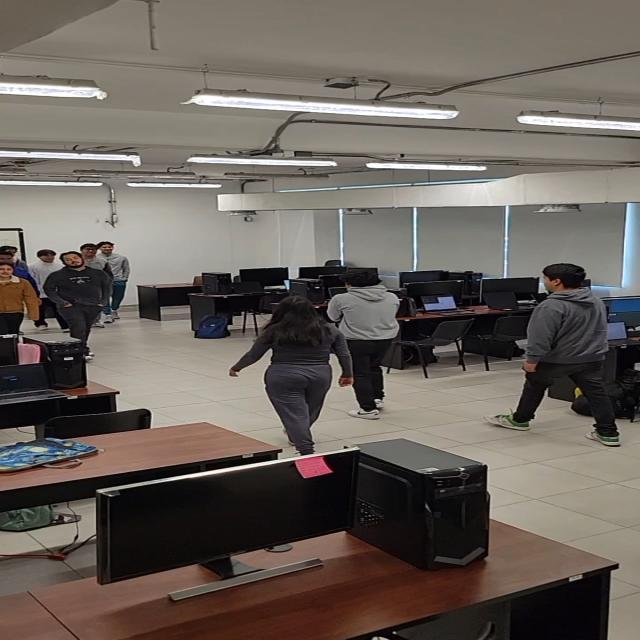Persona: (503, 259, 616, 447), (332, 268, 399, 419), (50, 250, 99, 363), (100, 238, 132, 326), (0, 260, 32, 344)
